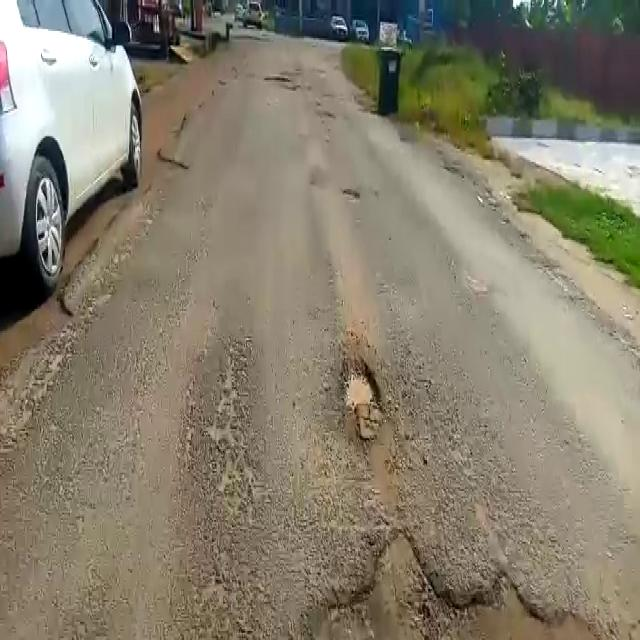Pothole: (303, 527, 637, 640), (341, 356, 384, 428)
